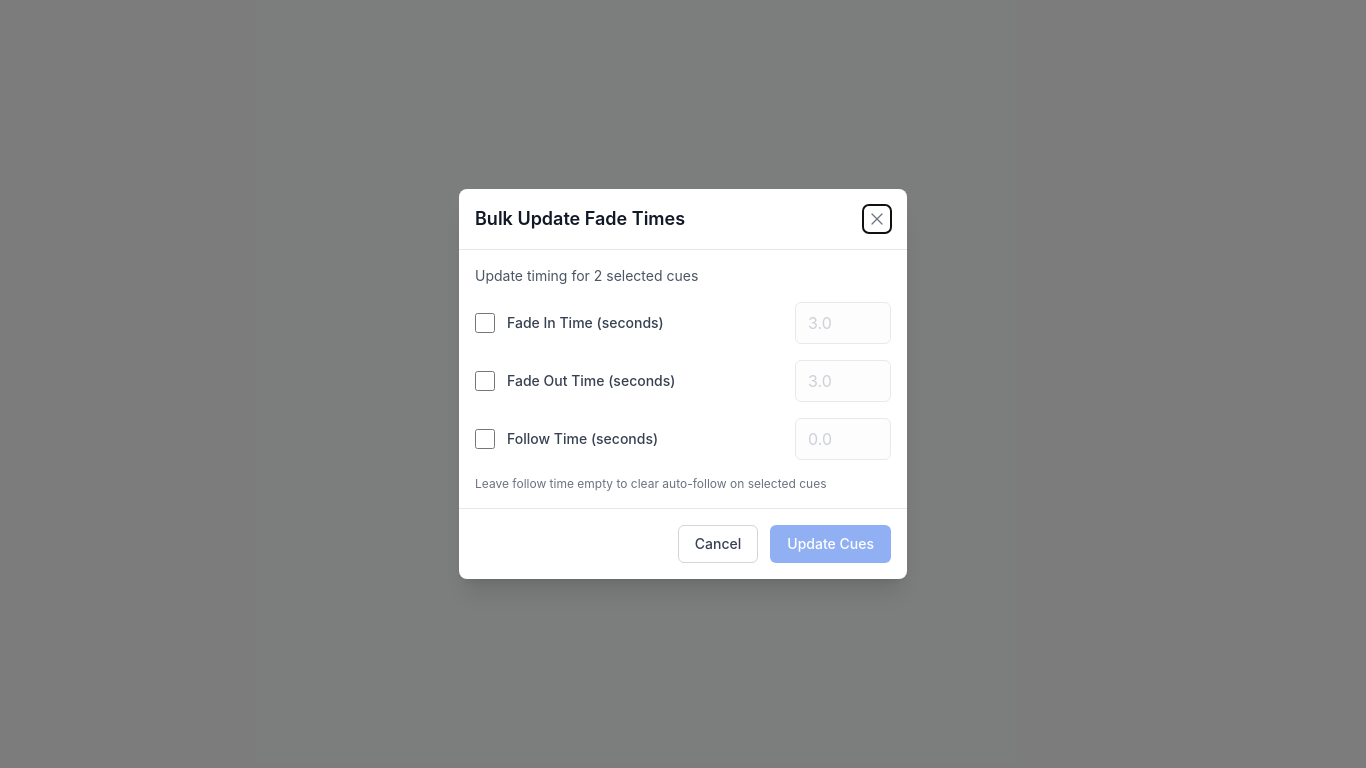
Test: BulkFadeUpdateModal › checkbox interaction › enables fade in input when checkbox is checked
The image size is (1366, 768).
Check: the number field with placeholder "3.0" next to "Fade In Time (seconds)" is disabled, box [795,302,891,344]
Click the checkbox labelled "Fade In Time (seconds)": (485, 323) [475,313,495,333]
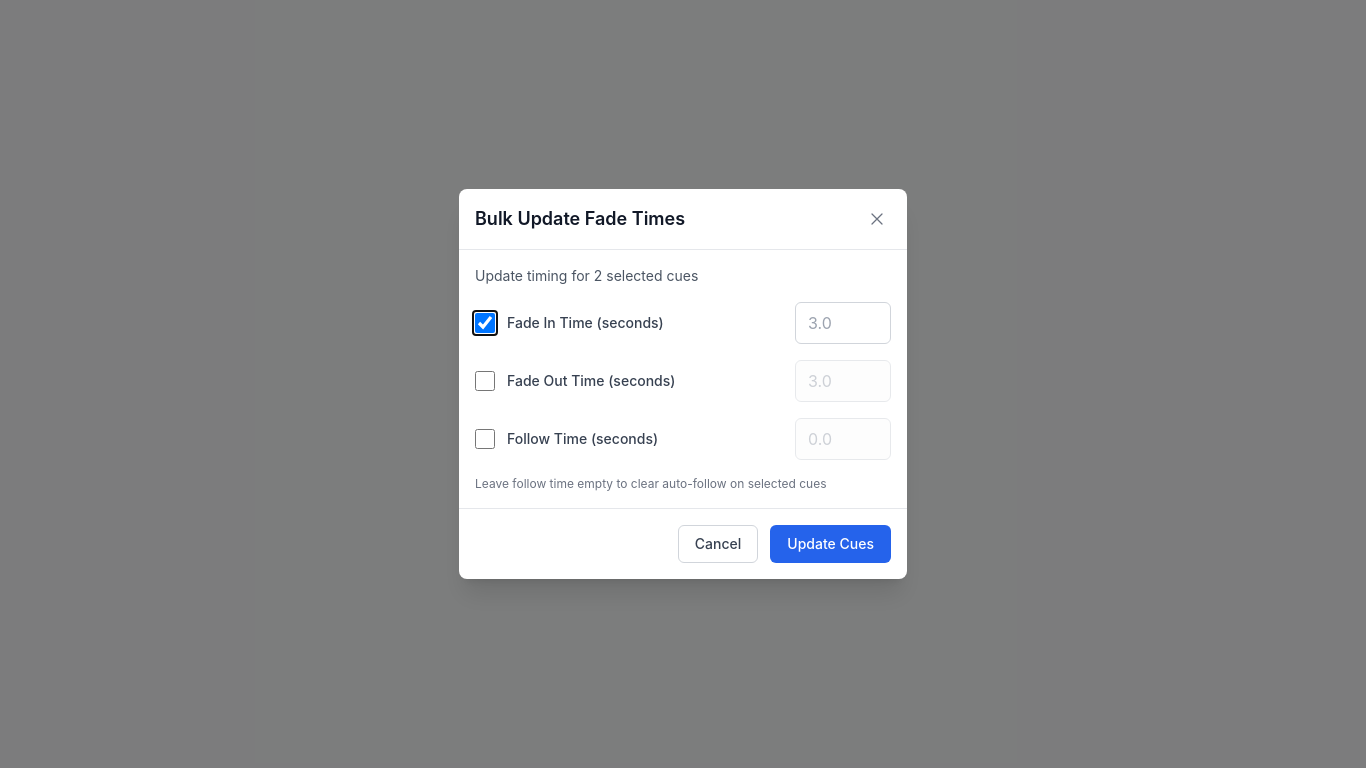
Check: the checkbox labelled "Fade In Time (seconds)" is checked, box [475,313,495,333]
Check: the number field with placeholder "3.0" next to "Fade In Time (seconds)" is enabled, box [795,302,891,344]
